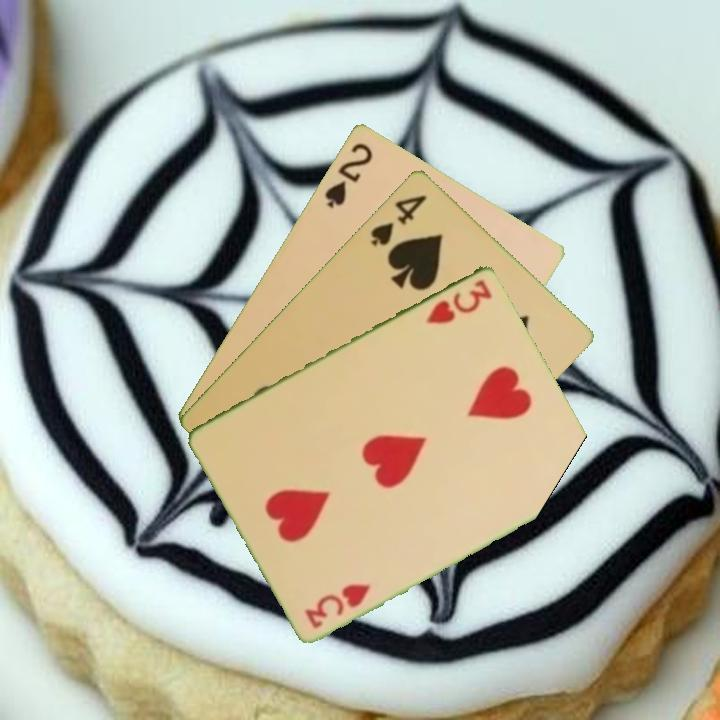2s: (320, 138, 376, 211)
3h: (422, 275, 495, 327), (301, 579, 374, 631)
4s: (366, 190, 430, 249)
